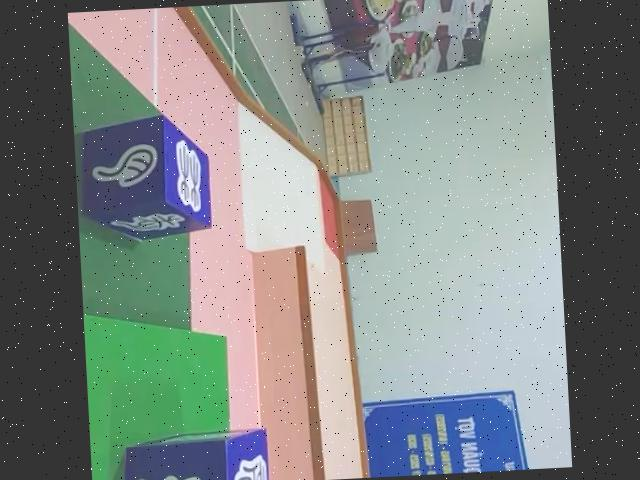R2 Fake Blue: (74, 112, 211, 243), (112, 424, 270, 480)
